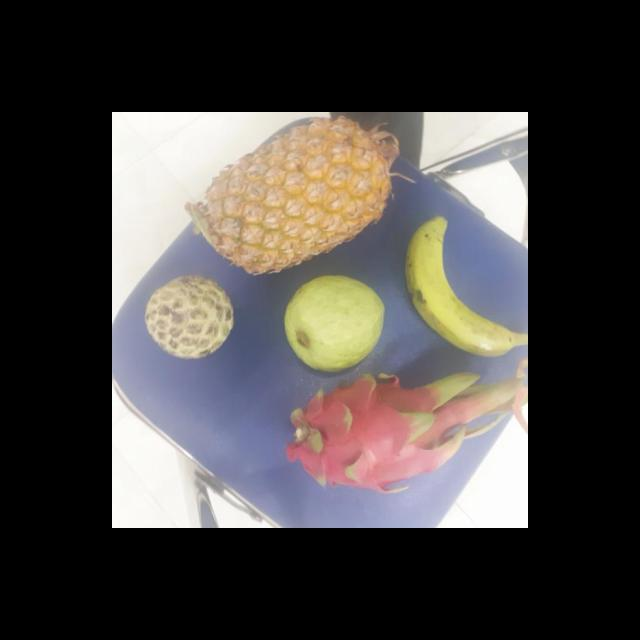Sakya fruit: (146, 277, 238, 358)
banana: (404, 216, 525, 360)
guava: (285, 278, 387, 372)
pineapple: (195, 118, 390, 274)
pitaya: (287, 371, 471, 494)
